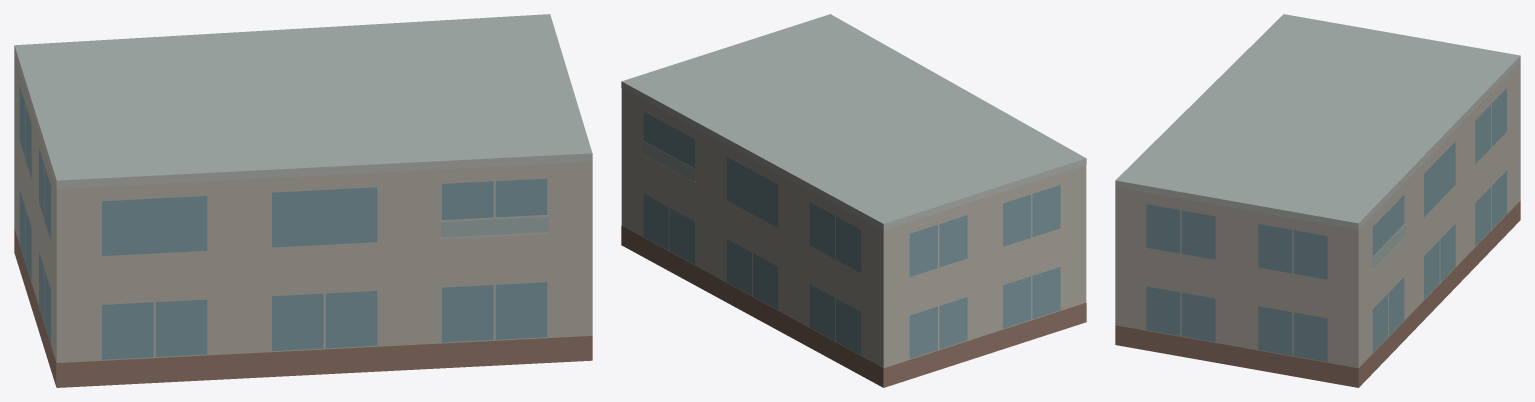
Rendered from survey-upis-32714700.glb.
The picture shows the model from 3 angles, left to right: view 1: azimuth 30°, elevation 25°; view 2: azimuth 150°, elevation 25°; view 3: azimuth 270°, elevation 25°; orthographic projection. The views are drawn at different scales.
Visible parts, largest first — view 1: survey-upis-32714700.tmp; view 2: survey-upis-32714700.tmp; view 3: survey-upis-32714700.tmp.
Boxes of the visible parts, box(x1,y1,x2,y2) form: survey-upis-32714700.tmp: box(14, 14, 592, 387); survey-upis-32714700.tmp: box(621, 14, 1086, 387); survey-upis-32714700.tmp: box(1115, 14, 1520, 387).
Size of the model in its own units: 16.67 by 6.1 by 13.63.
